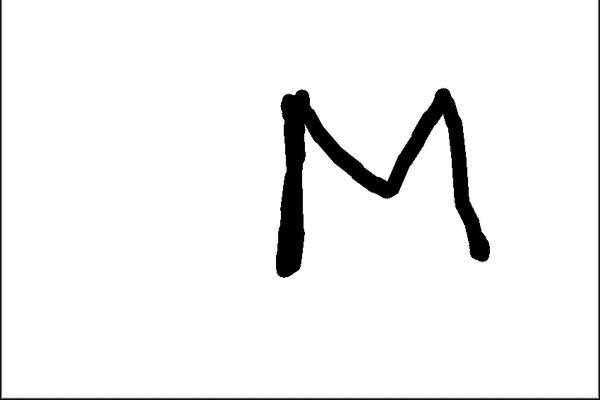M: (277, 85, 490, 277)
